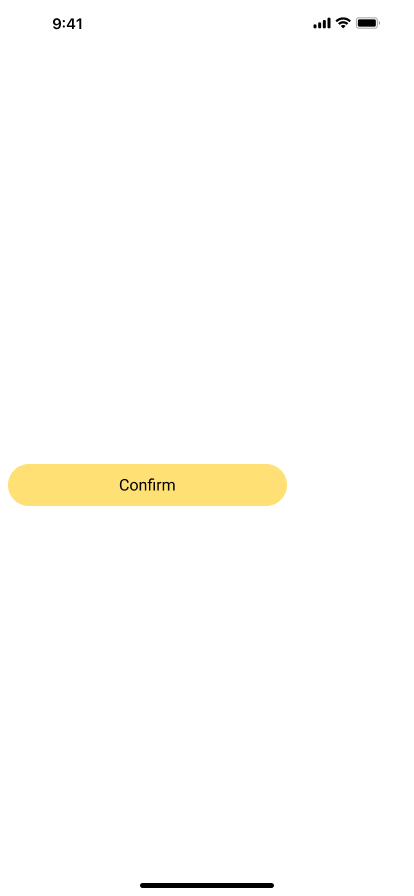Buttons: (8, 464, 287, 506)
Home Indicator: (0, 862, 414, 896)
Status Bar: (0, 0, 414, 44)
